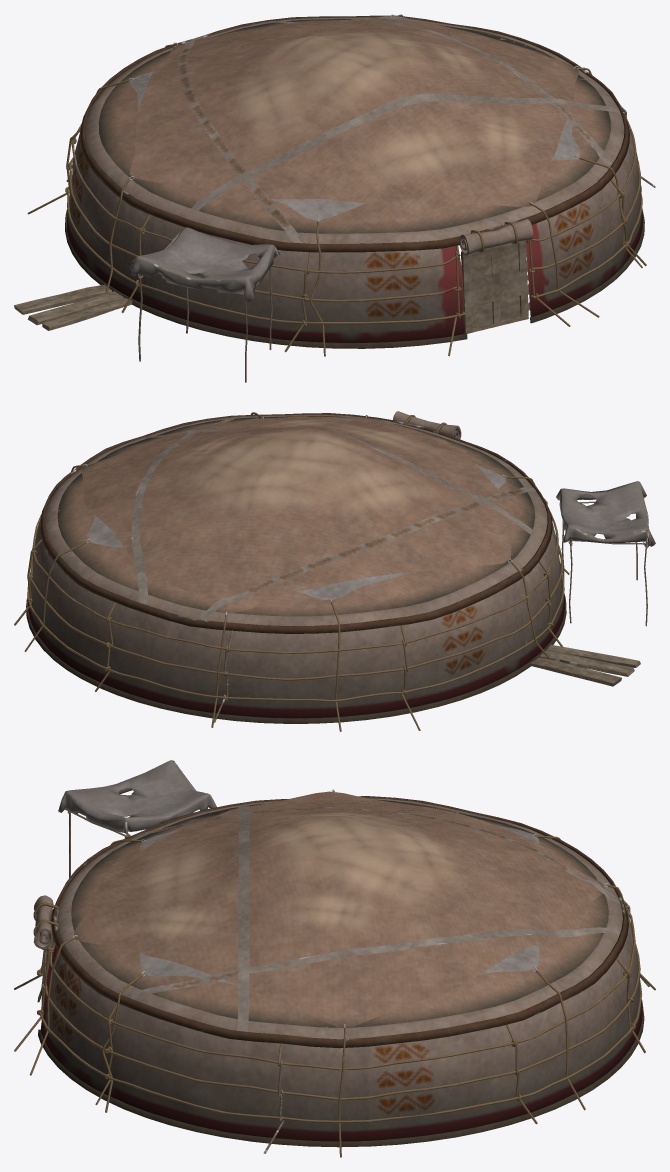
The model's file is realistic_tent.glb.
3 views of the same model, one above another, from view 1: azimuth 30°, elevation 25°; view 2: azimuth 150°, elevation 25°; view 3: azimuth 270°, elevation 25° (orthographic). The views are drawn at different scales.
Visible parts, largest first — view 1: UstCadir_low.001, AnaCadirKece_low.001, Cerceve_low.001, UstTemelCadir_low.001, KenarCadir_low.001, Kapi_low.001, UstKenarKusaklar_low.001, UstOnKusak_low.001, DisBasamaklar_low.001, OrtaCadir_low.001, KapiBez_low.001, KenarCadirIskelet_low.001; view 2: UstCadir_low.001, AnaCadirKece_low.001, Cerceve_low.001, UstTemelCadir_low.001, KenarCadir_low.001, UstKenarKusaklar_low.001, DisBasamaklar_low.001, OrtaCadir_low.001, UstOnKusak_low.001, KenarCadirIskelet_low.001, KapiBez_low.001; view 3: UstCadir_low.001, AnaCadirKece_low.001, Cerceve_low.001, UstTemelCadir_low.001, KenarCadir_low.001, UstKenarKusaklar_low.001, UstOnKusak_low.001, OrtaCadir_low.001, KapiBez_low.001.
Part boxes in pixels (box(x1,y1,x2,y2)): UstCadir_low.001: box(129, 18, 578, 210); AnaCadirKece_low.001: box(67, 17, 642, 342); Cerceve_low.001: box(27, 14, 655, 356); UstTemelCadir_low.001: box(98, 19, 610, 233); KenarCadir_low.001: box(130, 227, 279, 302); Kapi_low.001: box(461, 240, 528, 333); UstKenarKusaklar_low.001: box(178, 17, 612, 243); UstOnKusak_low.001: box(191, 93, 621, 210); DisBasamaklar_low.001: box(14, 284, 132, 330); OrtaCadir_low.001: box(130, 16, 579, 220); KapiBez_low.001: box(459, 219, 533, 255); KenarCadirIskelet_low.001: box(138, 261, 273, 382); UstCadir_low.001: box(81, 416, 513, 613); AnaCadirKece_low.001: box(28, 414, 564, 718); Cerceve_low.001: box(14, 412, 569, 731); UstTemelCadir_low.001: box(57, 416, 534, 616); KenarCadir_low.001: box(556, 481, 655, 547); UstKenarKusaklar_low.001: box(131, 416, 536, 620); DisBasamaklar_low.001: box(531, 644, 640, 686); OrtaCadir_low.001: box(86, 418, 505, 599); UstOnKusak_low.001: box(134, 427, 532, 534); KenarCadirIskelet_low.001: box(561, 501, 647, 626); KapiBez_low.001: box(393, 411, 461, 438); UstCadir_low.001: box(74, 791, 604, 1027); AnaCadirKece_low.001: box(40, 798, 642, 1141); Cerceve_low.001: box(14, 789, 655, 1157); UstTemelCadir_low.001: box(71, 801, 608, 1027); KenarCadir_low.001: box(58, 760, 216, 833); UstKenarKusaklar_low.001: box(126, 807, 620, 999); UstOnKusak_low.001: box(237, 805, 249, 1031); OrtaCadir_low.001: box(139, 825, 539, 984); KapiBez_low.001: box(33, 895, 57, 948).
Size of the model in its own units: 53.91 by 15.16 by 46.84.
Materials: 1 (1 with a texture image).
